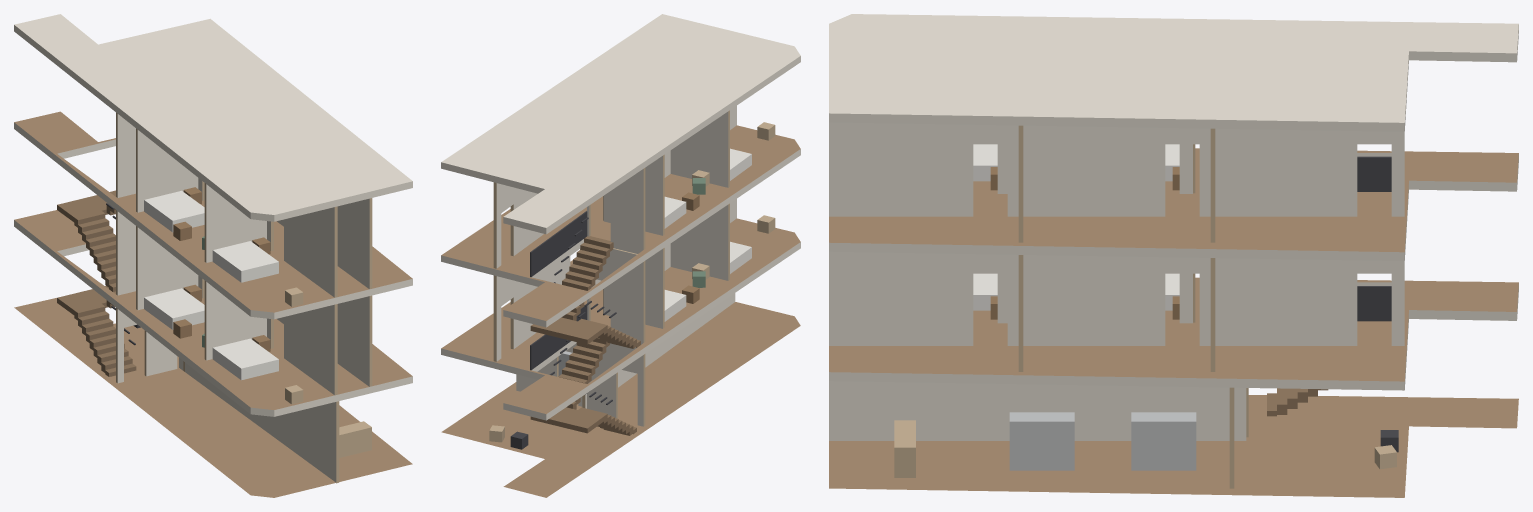
File: interior.glb
The picture shows the model from 3 angles, left to right: view 1: azimuth 30°, elevation 25°; view 2: azimuth 150°, elevation 25°; view 3: azimuth 270°, elevation 25°; orthographic projection. The views are drawn at different scales.
Parts seen in each view (by area): view 1: slabs, partitions, stair, coarse-s1, coarse-s2, coarse-s0; view 2: slabs, partitions, stair, coarse-s2, coarse-s1, coarse-s0; view 3: slabs, partitions, coarse-s0, stair, coarse-s1, coarse-s2.
Boxes of the visible parts, x1,y1,x2,y2 form: slabs: [14, 14, 412, 497]; partitions: [116, 112, 372, 483]; stair: [57, 190, 136, 376]; coarse-s1: [144, 284, 303, 404]; coarse-s2: [144, 187, 303, 306]; coarse-s0: [133, 324, 371, 457]; slabs: [441, 14, 800, 497]; partitions: [493, 105, 736, 426]; stair: [530, 211, 640, 435]; coarse-s2: [664, 122, 775, 228]; coarse-s1: [664, 215, 775, 321]; coarse-s0: [489, 351, 571, 449]; slabs: [829, 14, 1518, 497]; partitions: [829, 122, 1404, 488]; coarse-s0: [894, 412, 1398, 477]; stair: [1267, 156, 1391, 416]; coarse-s1: [973, 273, 1179, 319]; coarse-s2: [973, 144, 1179, 190].
Bounding box in the file's own units: 6.78 × 10.91 × 18.15.
